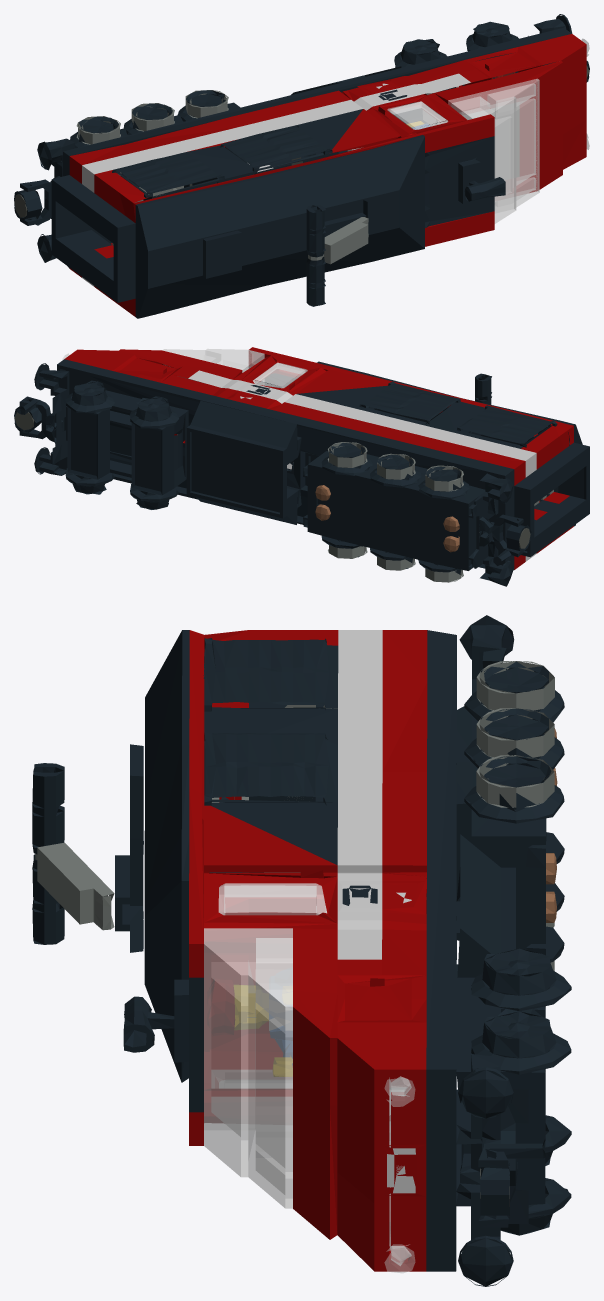
Rendered from power-car.glb.
3 views of the same model, one above another, from view 1: azimuth 30°, elevation 25°; view 2: azimuth 150°, elevation 25°; view 3: azimuth 270°, elevation 25° (orthographic). The views are drawn at different scales.
Bounding box in the file's own units: 252 × 52 × 116.
